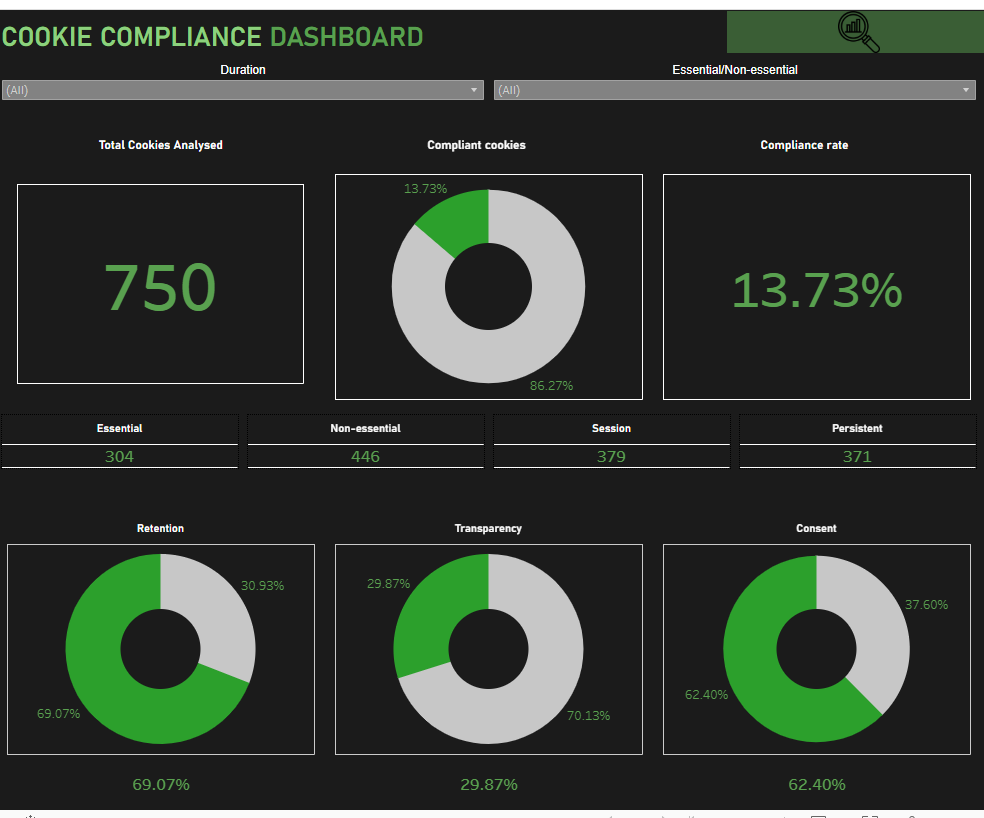

What the dashboard file says about the page in this screenshot:
{"tool":"tableau","page":{"name":"Summary","canvas":[1000,800],"ordinal":0},"visuals":[{"type":"text","box":[8,8,984,29.3]},{"type":"filter","title":"Compliant","param":"[federated.1a1isk505plk0a148nfpf01nuwyi].[none:Duration:nk]","box":[8,37.3,492,66.7]},{"type":"filter","title":"Compliant","param":"[federated.1a1isk505plk0a148nfpf01nuwyi].[none:Essential/Non-essential:nk]","box":[500,37.3,492,66.7]},{"type":"text","box":[8,104,304.7,36]},{"type":"text","box":[312.7,104,679.3,36]},{"type":"worksheet","title":"Compliant","mark":"Pie","rows":["Calculation_881298173950656515","Calculation_881298173950656515"],"box":[8,140,325,243]},{"type":"worksheet","title":"Total compliance rate","mark":"Automatic","box":[333,140,659,243]},{"type":"worksheet","title":"Essential","mark":"Automatic","box":[8,383,246,65]},{"type":"worksheet","title":"Non-essential","mark":"Automatic","box":[254,383,246,65]},{"type":"worksheet","title":"Session","mark":"Automatic","box":[500,383,246,65]},{"type":"worksheet","title":"Persistent","mark":"Automatic","box":[746,383,246,65]},{"type":"blank","box":[8,448,984,32]},{"type":"worksheet","title":"Retention","mark":"Pie","rows":["Calculation_881298173950656515","Calculation_881298173950656515"],"box":[8,480,328,250]},{"type":"worksheet","title":"Transparency","mark":"Pie","rows":["Calculation_881298173950656515","Calculation_881298173950656515"],"box":[336,480,328,250]},{"type":"worksheet","title":"Consent","mark":"Pie","rows":["Calculation_881298173950656515","Calculation_881298173950656515"],"box":[664,480,328,250]},{"type":"worksheet","title":"Retention compliance rate","mark":"Automatic","box":[8,730,328,62]},{"type":"worksheet","title":"Consent compliance rate","mark":"Automatic","box":[336,730,328,62]},{"type":"worksheet","title":"Transparency compliance rate","mark":"Automatic","box":[664,730,328,62]}]}

Visuals, with their boxes in screenshot pixels (x1, y1, x2, y2):
text: pyautogui.locateOnScreen(13, 8, 968, 36)
"Compliant" filter: pyautogui.locateOnScreen(13, 36, 490, 101)
"Compliant" filter: pyautogui.locateOnScreen(490, 36, 968, 101)
text: pyautogui.locateOnScreen(13, 101, 309, 136)
text: pyautogui.locateOnScreen(309, 101, 968, 136)
"Compliant" worksheet (Pie marks): pyautogui.locateOnScreen(13, 136, 328, 372)
"Total compliance rate" worksheet: pyautogui.locateOnScreen(328, 136, 968, 372)
"Essential" worksheet: pyautogui.locateOnScreen(13, 372, 252, 435)
"Non-essential" worksheet: pyautogui.locateOnScreen(252, 372, 490, 435)
"Session" worksheet: pyautogui.locateOnScreen(490, 372, 729, 435)
"Persistent" worksheet: pyautogui.locateOnScreen(729, 372, 968, 435)
blank: pyautogui.locateOnScreen(13, 435, 968, 466)
"Retention" worksheet (Pie marks): pyautogui.locateOnScreen(13, 466, 331, 708)
"Transparency" worksheet (Pie marks): pyautogui.locateOnScreen(331, 466, 649, 708)
"Consent" worksheet (Pie marks): pyautogui.locateOnScreen(649, 466, 968, 708)
"Retention compliance rate" worksheet: pyautogui.locateOnScreen(13, 708, 331, 769)
"Consent compliance rate" worksheet: pyautogui.locateOnScreen(331, 708, 649, 769)
"Transparency compliance rate" worksheet: pyautogui.locateOnScreen(649, 708, 968, 769)
